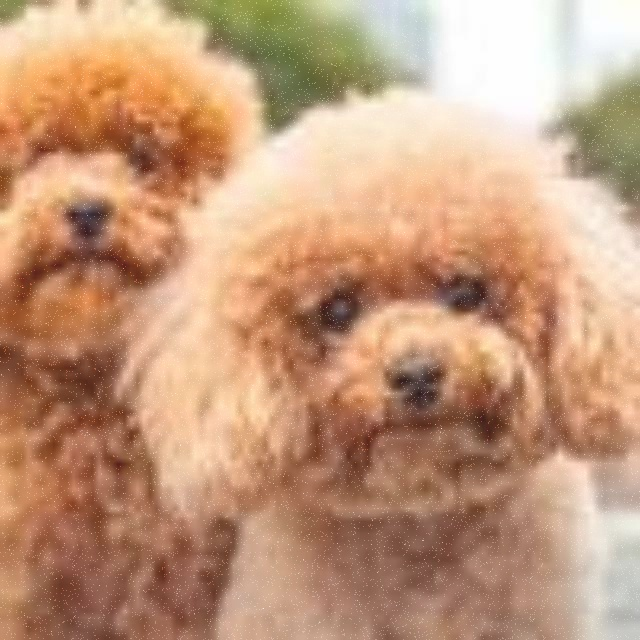dog: (218, 99, 636, 503)
